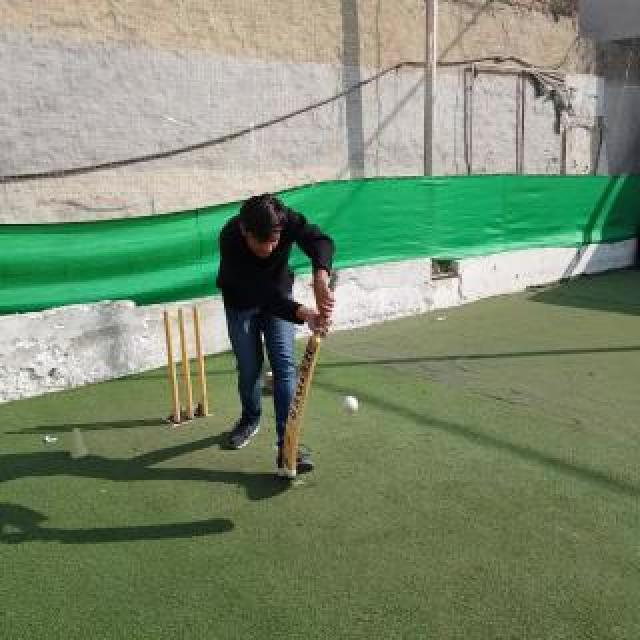ball: (342, 396, 358, 412)
bat: (284, 270, 342, 478)
